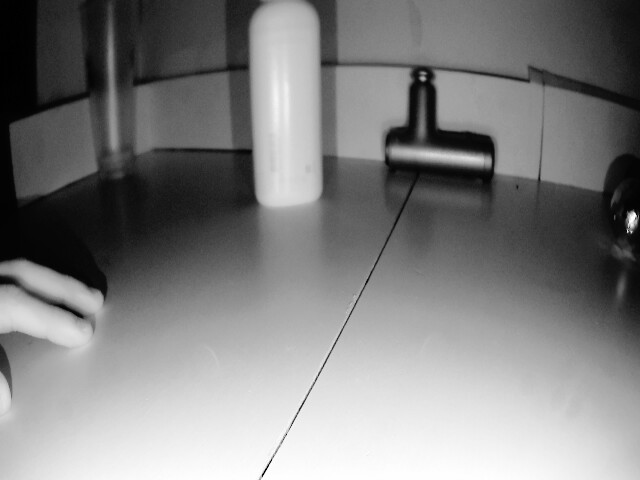silver: (604, 178, 640, 259)
